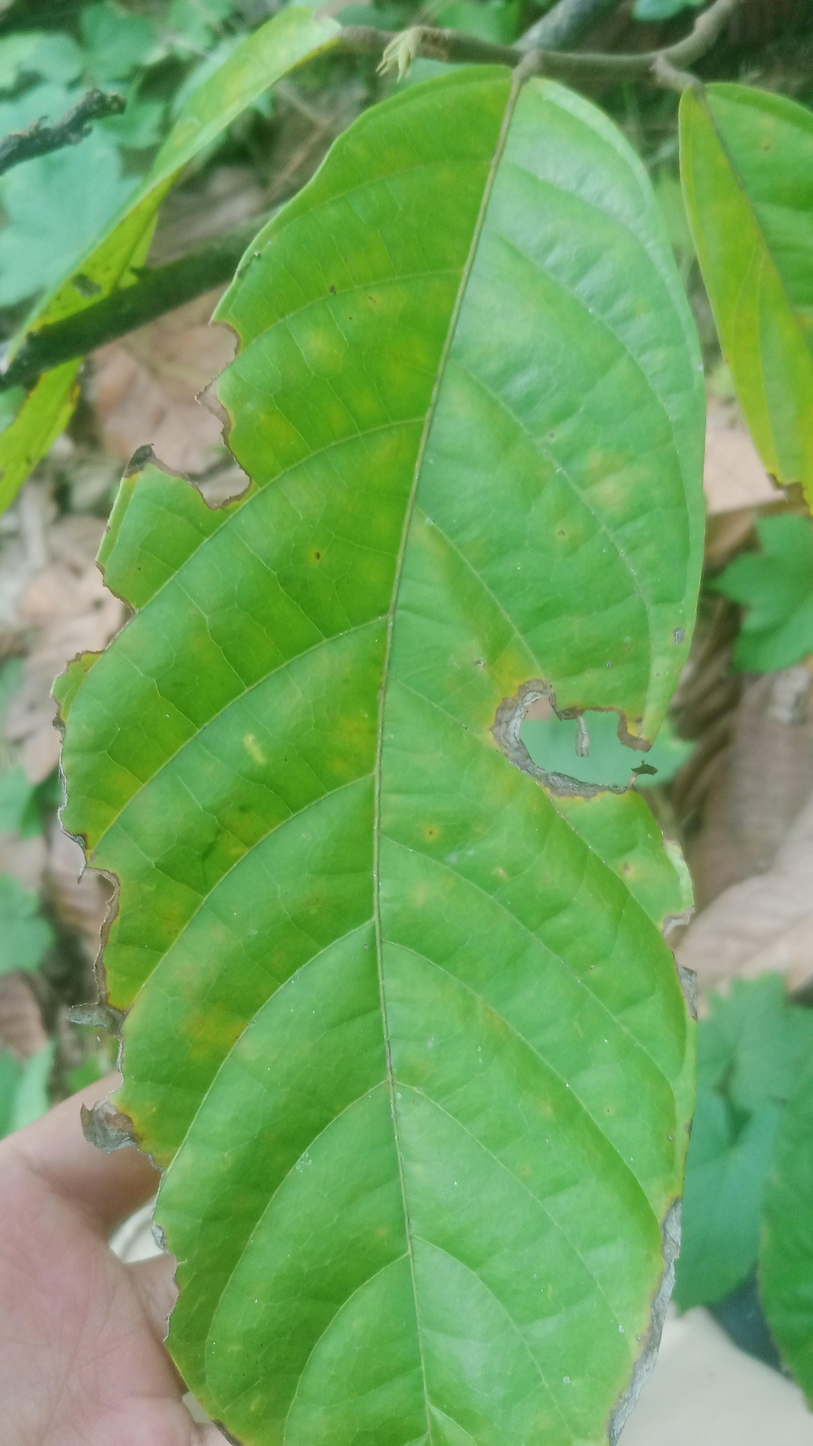deficiencia_potasio: (64, 72, 711, 1446)
